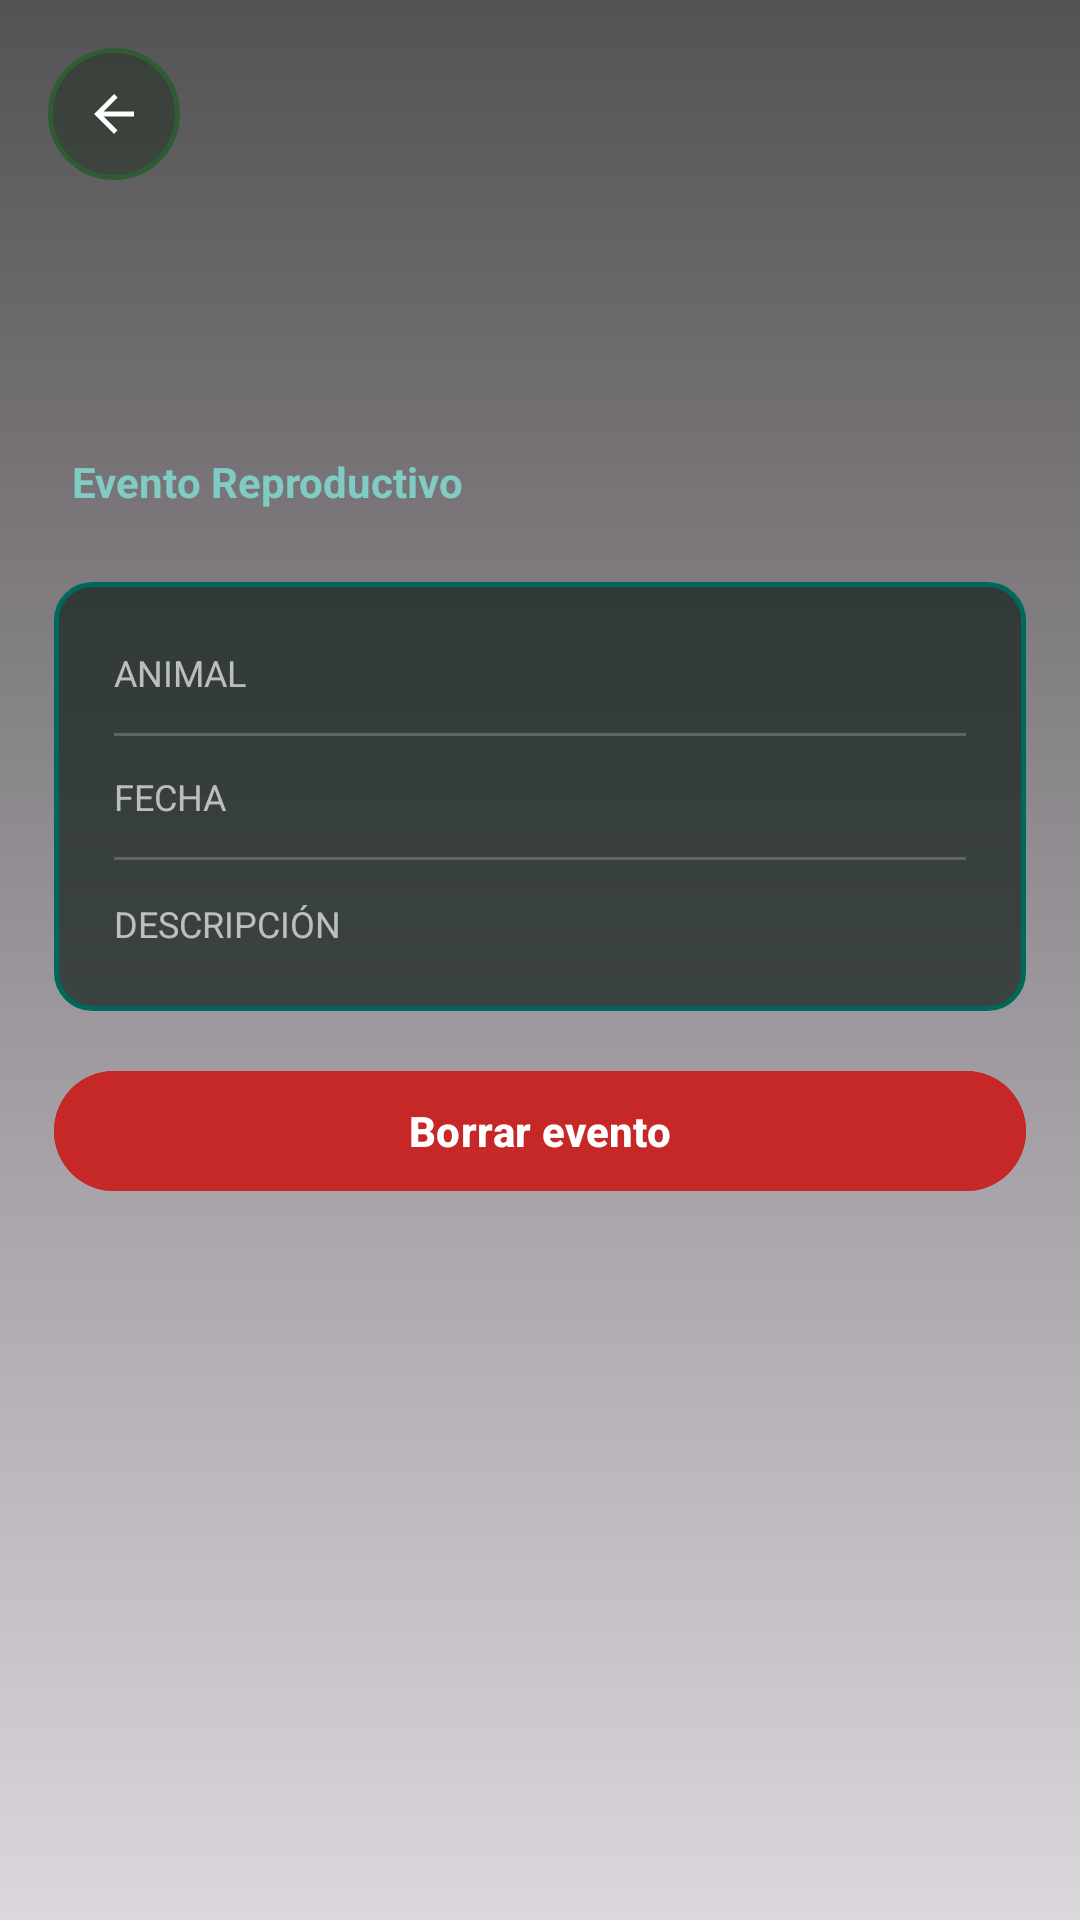

Icons on this 1080 × 1920 Android screen, each with its box as (x1, y1, x2, y2):
arrow back: (48, 48, 180, 180)
